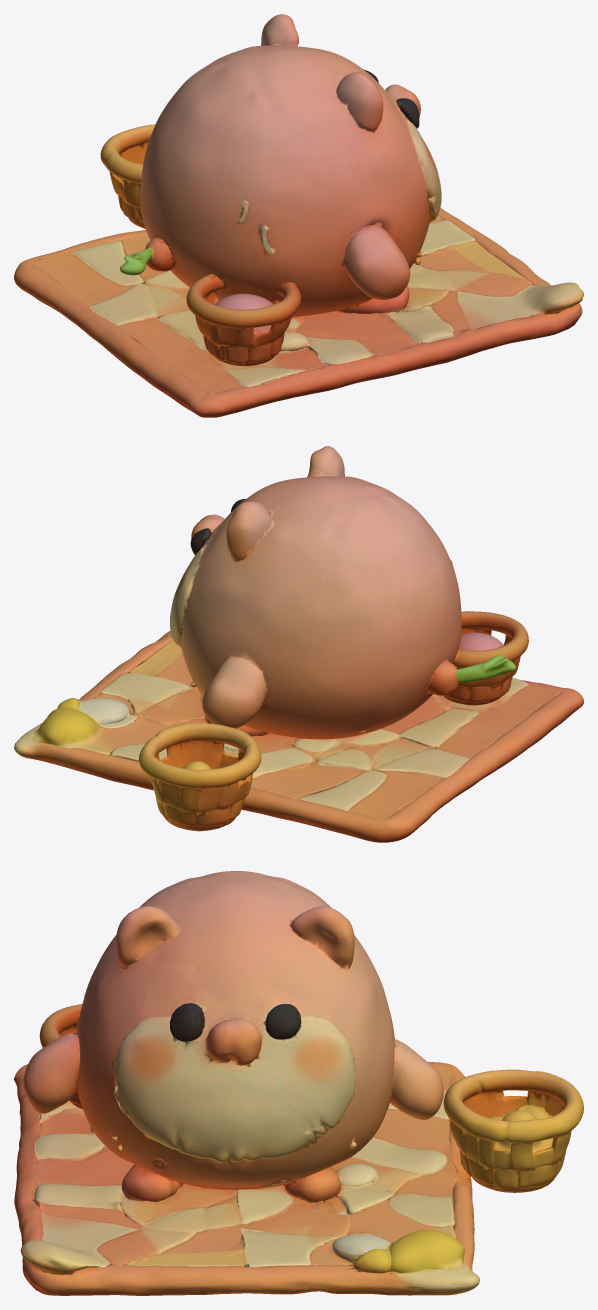
File: env_nest_monster_26.glb
3 views of the same model, one above another, from view 1: azimuth 30°, elevation 25°; view 2: azimuth 150°, elevation 25°; view 3: azimuth 270°, elevation 25° (orthographic). The views are drawn at different scales.
Visible parts, largest first — view 1: tripo_node_a96f608e-3fb8-4a05-b835-74979565b4d5; view 2: tripo_node_a96f608e-3fb8-4a05-b835-74979565b4d5; view 3: tripo_node_a96f608e-3fb8-4a05-b835-74979565b4d5.
Boxes of the visible parts, left/top/right/bottom form: tripo_node_a96f608e-3fb8-4a05-b835-74979565b4d5: left=14, top=14, right=583, bottom=417; tripo_node_a96f608e-3fb8-4a05-b835-74979565b4d5: left=14, top=446, right=583, bottom=842; tripo_node_a96f608e-3fb8-4a05-b835-74979565b4d5: left=14, top=871, right=583, bottom=1295.
Size of the model in its own units: 1.75 by 1.1 by 1.91.
Materials: 1 (1 with a texture image).
